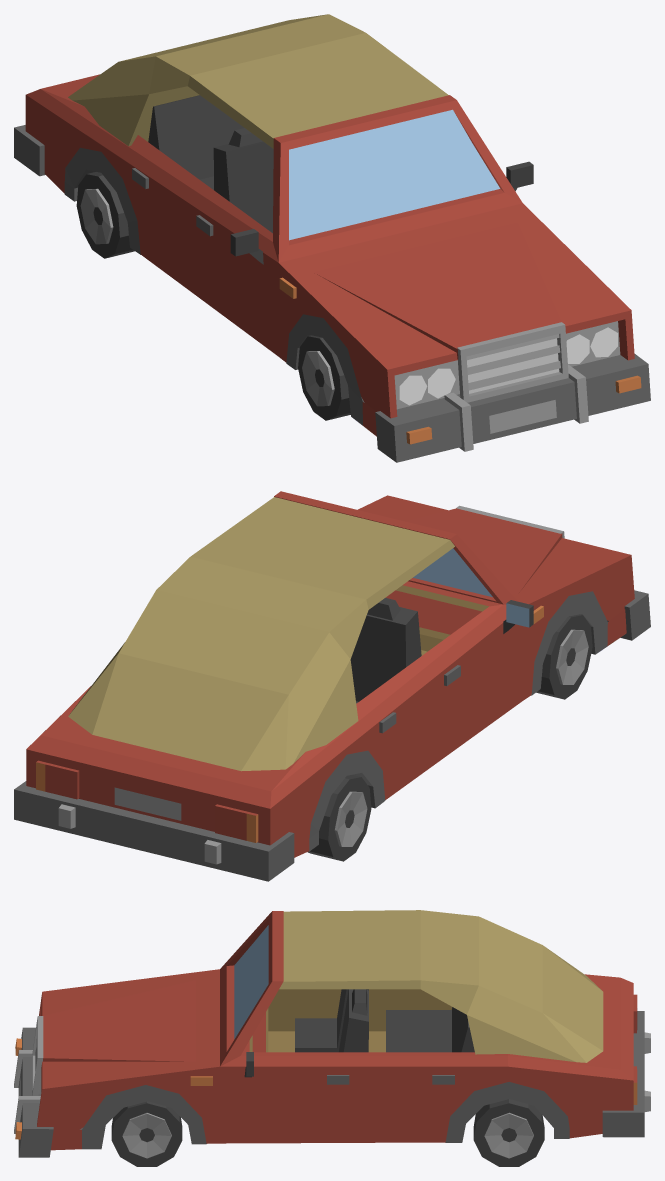
File: transport_cool_002.fbx
The picture shows the model from 3 angles, top to bottom: view 1: azimuth 30°, elevation 25°; view 2: azimuth 150°, elevation 25°; view 3: azimuth 270°, elevation 25°; orthographic projection. The views are drawn at different scales.
Parts seen in each view (by area): view 1: transport_cool_002; view 2: transport_cool_002; view 3: transport_cool_002.
Part boxes in pixels (x1,y1,x2,y2): transport_cool_002: [14, 14, 650, 462]; transport_cool_002: [14, 491, 650, 881]; transport_cool_002: [14, 910, 650, 1166].
Size of the model in its own units: 148 by 99.18 by 334.
